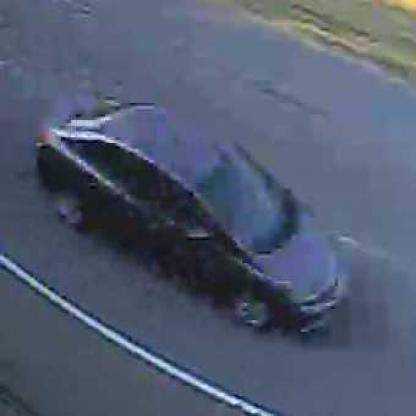car: (34, 94, 347, 337)
